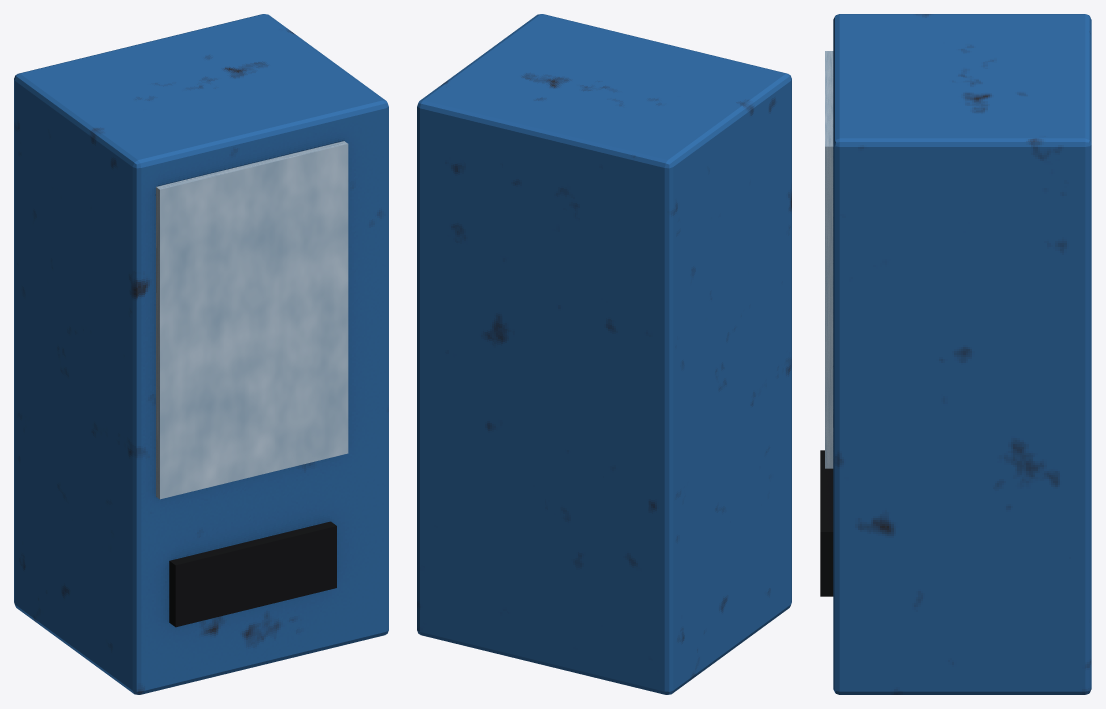
Rendered from city_vending.glb.
3 views of the same model, side by side, from view 1: azimuth 30°, elevation 25°; view 2: azimuth 150°, elevation 25°; view 3: azimuth 270°, elevation 25° (orthographic). The views are drawn at different scales.
Parts seen in each view (by area): view 1: city_vending; view 2: city_vending; view 3: city_vending.
Part boxes in pixels (x1,y1,x2,y2): city_vending: (14, 14, 388, 694); city_vending: (417, 14, 791, 694); city_vending: (820, 14, 1091, 694).
Bounding box in the file's own units: 0.95 × 1.9 × 0.84.
Materials: 3 (3 with a texture image).
